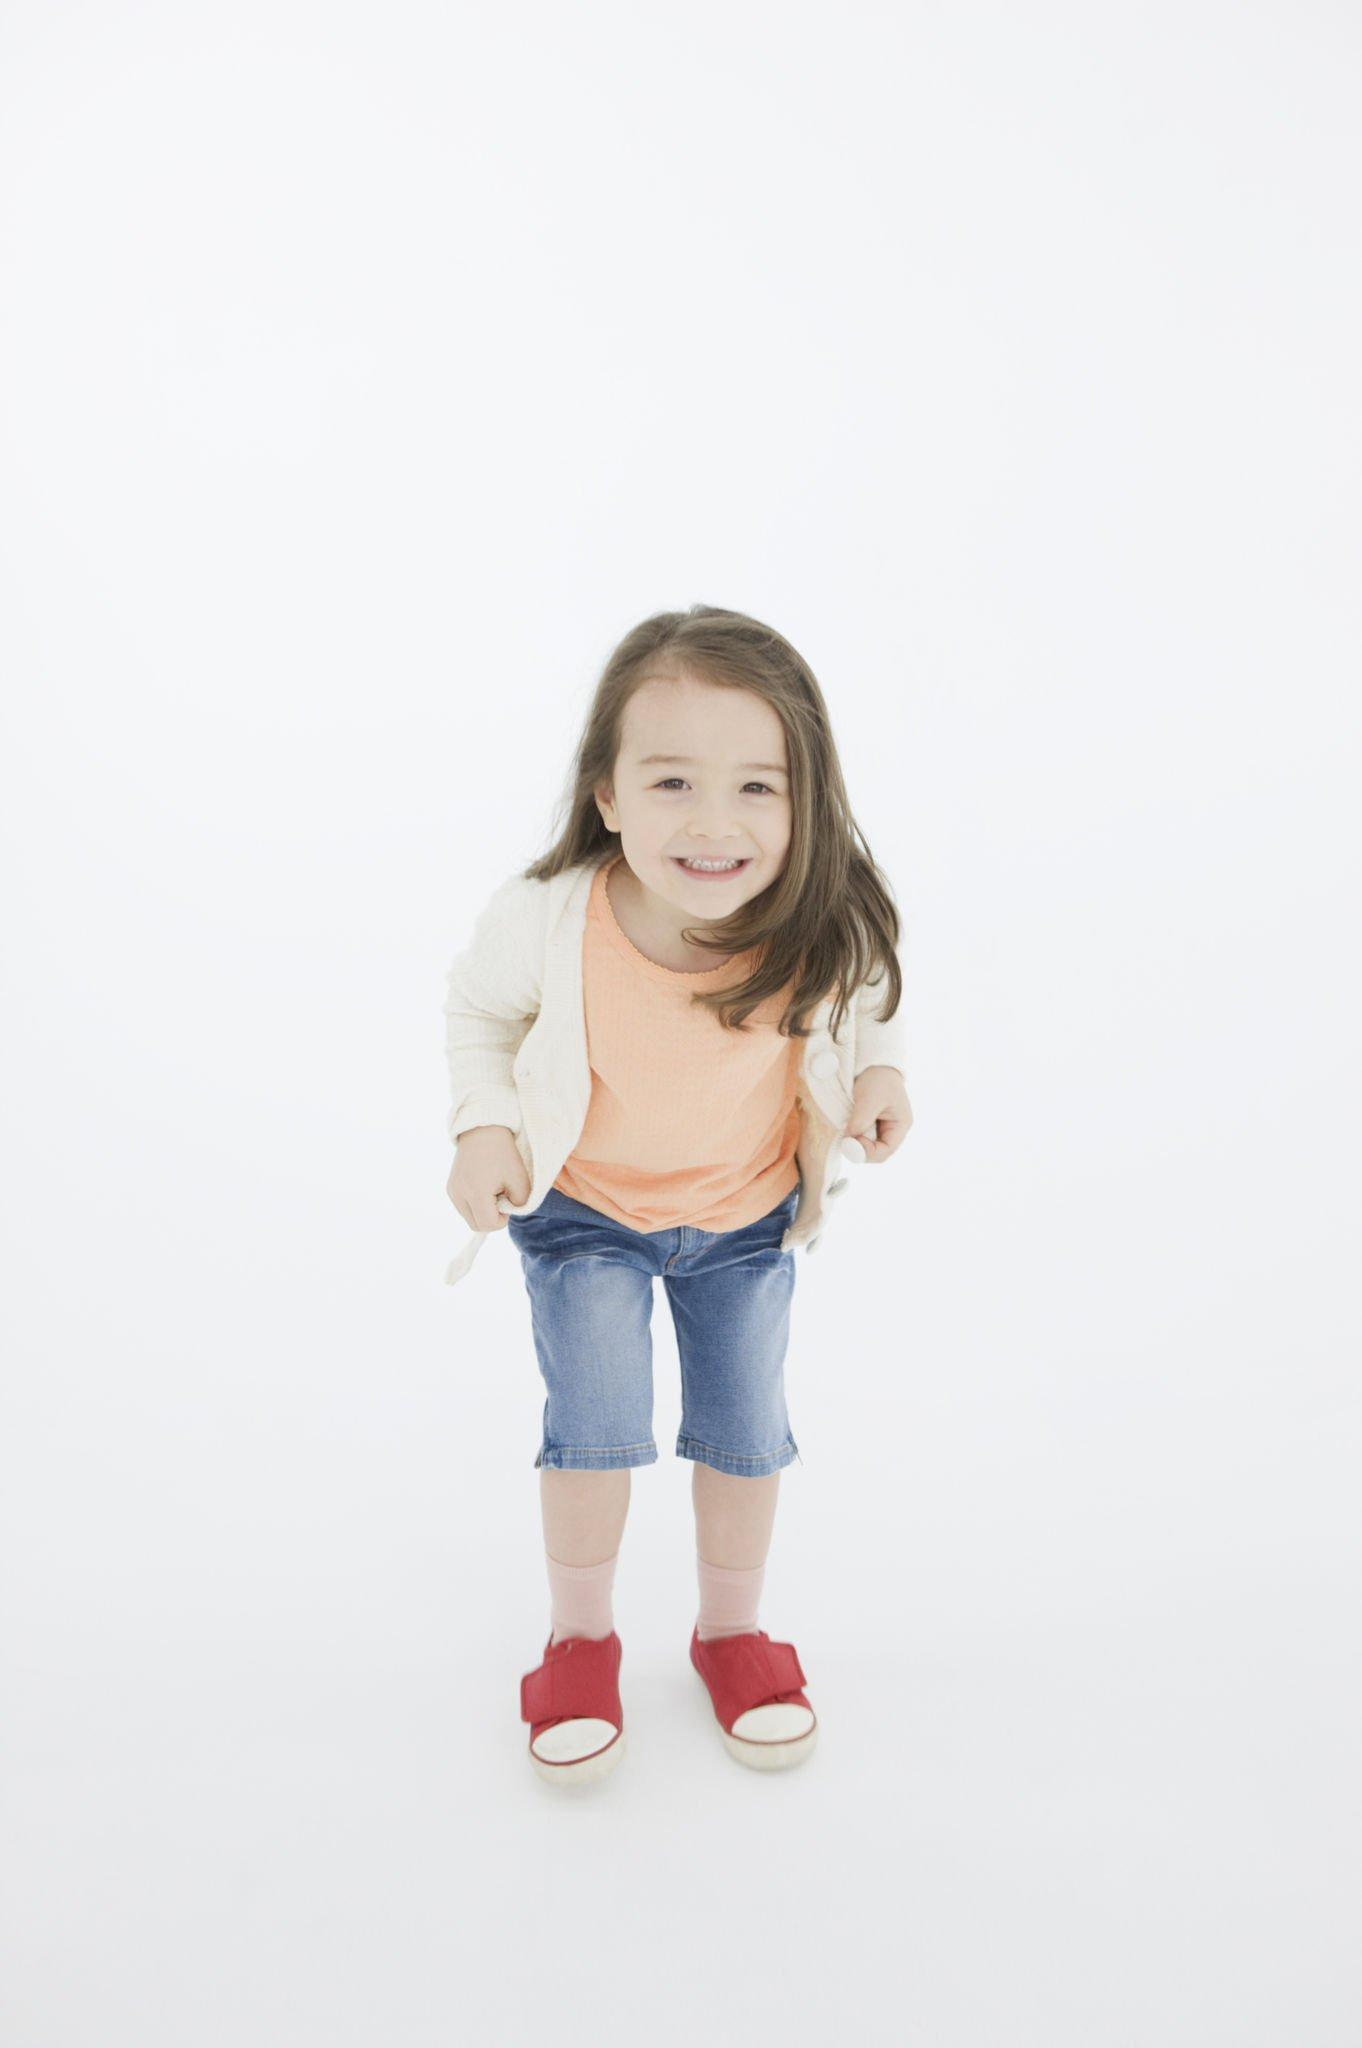Healthy: (572, 602, 836, 953)
